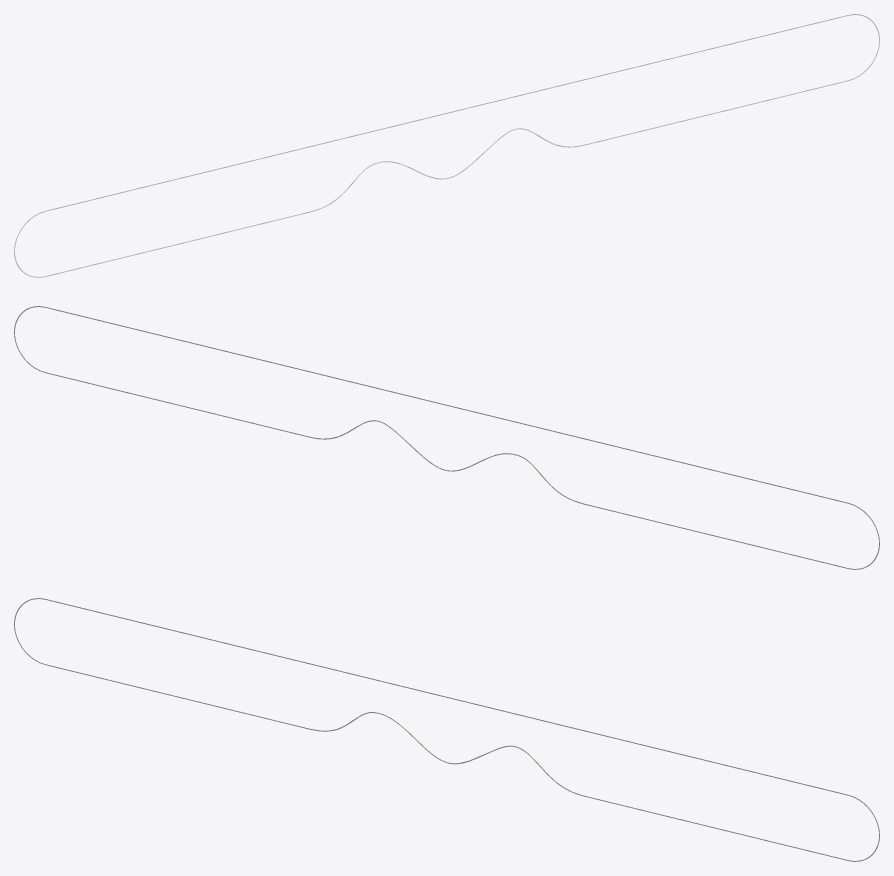
The model's file is ligneblanche.gltf.
3 views of the same model, one above another, from view 1: azimuth 30°, elevation 25°; view 2: azimuth 150°, elevation 25°; view 3: azimuth 330°, elevation 25° (orthographic).
Visible parts, largest first — view 1: LigneBlanche; view 2: LigneBlanche; view 3: LigneBlanche.
Part boxes in pixels (<box>): LigneBlanche: <box>14,14,879,277</box>; LigneBlanche: <box>14,306,879,569</box>; LigneBlanche: <box>14,598,879,861</box>.
Size of the model in its own units: 48.55 by 3.55 by 0.
